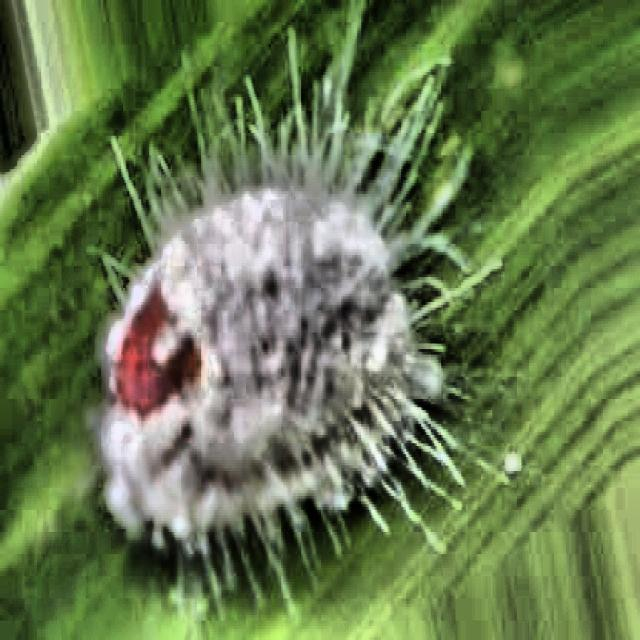Mealy-bug: (53, 68, 470, 550)
